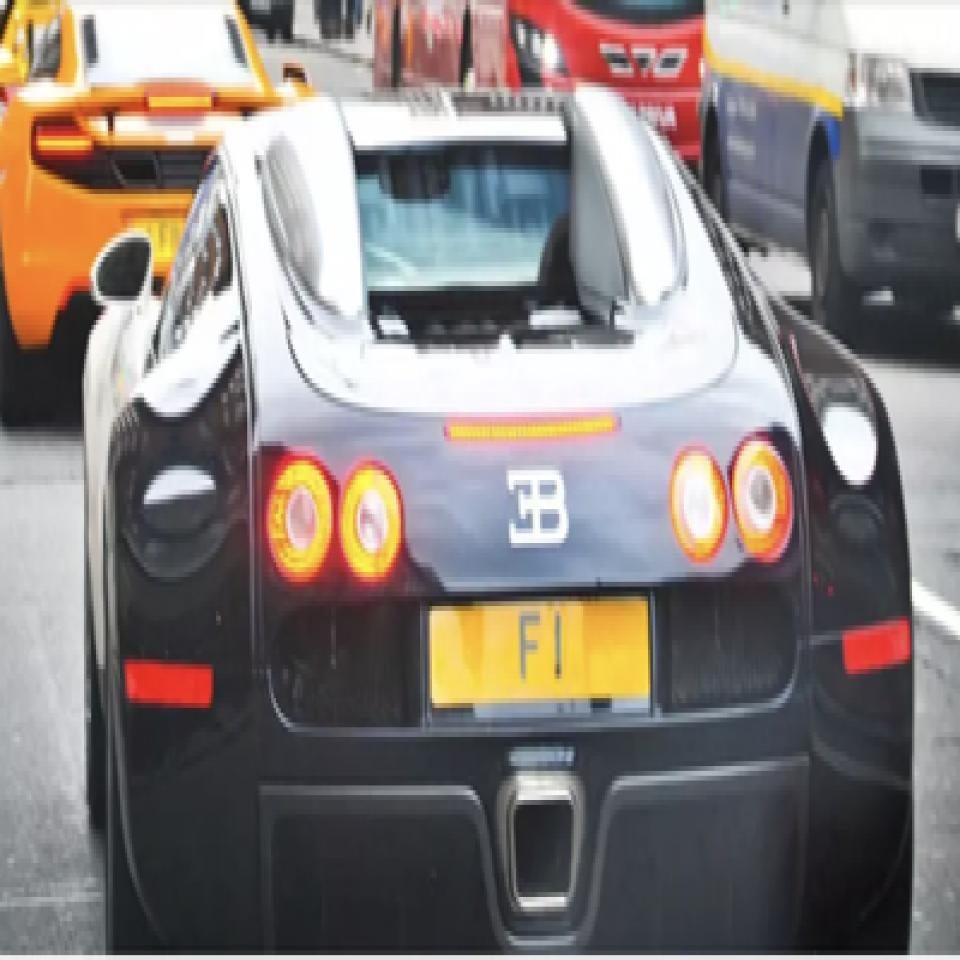licence: (425, 596, 653, 694)
